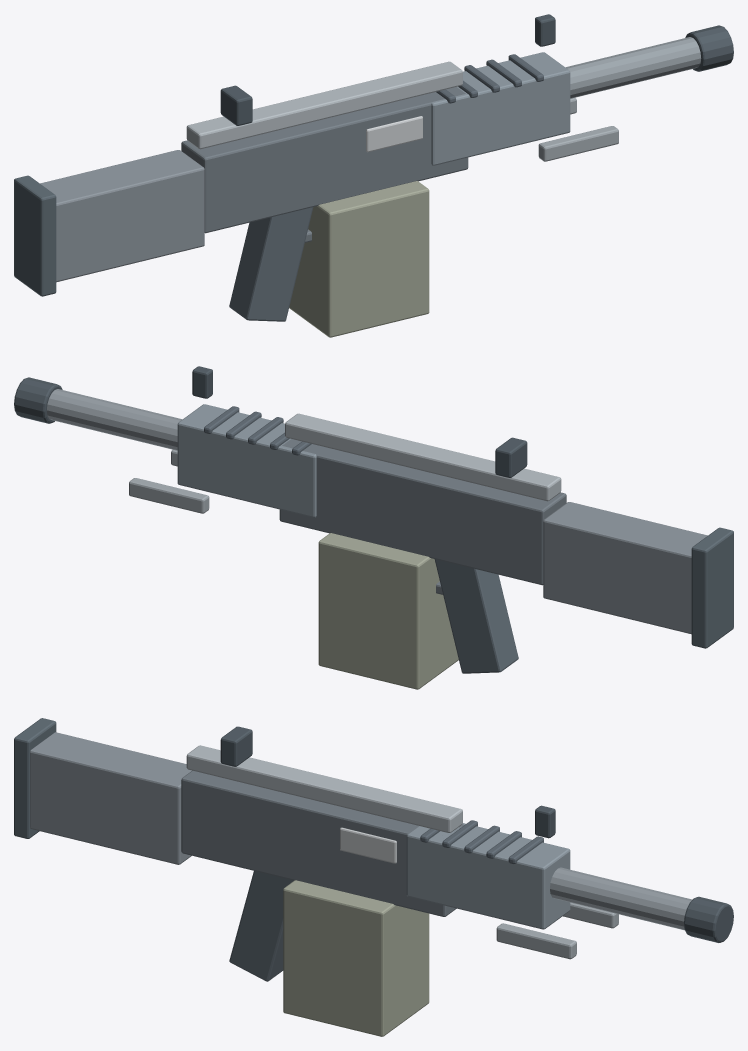
File: lmg.glb
3 renders of one model, top to bottom at view 1: azimuth 30°, elevation 25°; view 2: azimuth 150°, elevation 25°; view 3: azimuth 330°, elevation 25°, orthographic.
Visible parts, largest first — view 1: lmg_机匣, lmg_供弹盒, lmg_枪托, lmg_护木, lmg_顶导轨, lmg_握把, lmg_托底, lmg_枪管, lmg_折叠脚架1, lmg_枪口套, lmg_抛壳窗, lmg_照门 (+1 smaller); view 2: lmg_机匣, lmg_供弹盒, lmg_枪托, lmg_护木, lmg_顶导轨, lmg_握把, lmg_托底, lmg_枪管, lmg_折叠脚架-1, lmg_枪口套, lmg_照门, lmg_准星; view 3: lmg_供弹盒, lmg_机匣, lmg_枪托, lmg_护木, lmg_顶导轨, lmg_握把, lmg_枪管, lmg_托底, lmg_枪口套, lmg_折叠脚架1, lmg_抛壳窗, lmg_照门 (+2 smaller).
Part boxes in pixels (bbox=[...]): lmg_机匣: bbox=[181, 87, 468, 233]; lmg_供弹盒: bbox=[289, 181, 429, 337]; lmg_枪托: bbox=[40, 150, 204, 282]; lmg_护木: bbox=[431, 52, 570, 165]; lmg_顶导轨: bbox=[186, 61, 462, 149]; lmg_握把: bbox=[229, 207, 313, 321]; lmg_托底: bbox=[14, 175, 56, 296]; lmg_枪管: bbox=[565, 37, 701, 98]; lmg_折叠脚架1: bbox=[538, 126, 618, 161]; lmg_枪口套: bbox=[685, 25, 733, 71]; lmg_抛壳窗: bbox=[366, 116, 422, 152]; lmg_照门: bbox=[220, 85, 252, 125]; lmg_机匣: bbox=[279, 439, 566, 585]; lmg_供弹盒: bbox=[318, 533, 458, 689]; lmg_枪托: bbox=[543, 502, 707, 634]; lmg_护木: bbox=[177, 404, 316, 517]; lmg_顶导轨: bbox=[285, 413, 561, 501]; lmg_握把: bbox=[434, 559, 518, 673]; lmg_托底: bbox=[691, 527, 733, 648]; lmg_枪管: bbox=[46, 389, 182, 450]; lmg_折叠脚架-1: bbox=[129, 478, 209, 513]; lmg_枪口套: bbox=[14, 377, 62, 423]; lmg_照门: bbox=[495, 437, 527, 477]; lmg_准星: bbox=[192, 366, 212, 398]; lmg_供弹盒: bbox=[283, 880, 429, 1036]; lmg_机匣: bbox=[181, 770, 464, 916]; lmg_枪托: bbox=[30, 732, 191, 864]; lmg_护木: bbox=[406, 823, 570, 929]; lmg_顶导轨: bbox=[186, 745, 462, 832]; lmg_握把: bbox=[229, 871, 293, 981]; lmg_枪管: bbox=[550, 867, 692, 930]; lmg_托底: bbox=[14, 718, 56, 838]; lmg_枪口套: bbox=[684, 896, 733, 942]; lmg_折叠脚架1: bbox=[496, 923, 576, 959]; lmg_抛壳窗: bbox=[340, 827, 396, 863]; lmg_照门: bbox=[220, 726, 252, 766].
Size of the model in its own units: 1.11 by 0.373 by 0.134.
